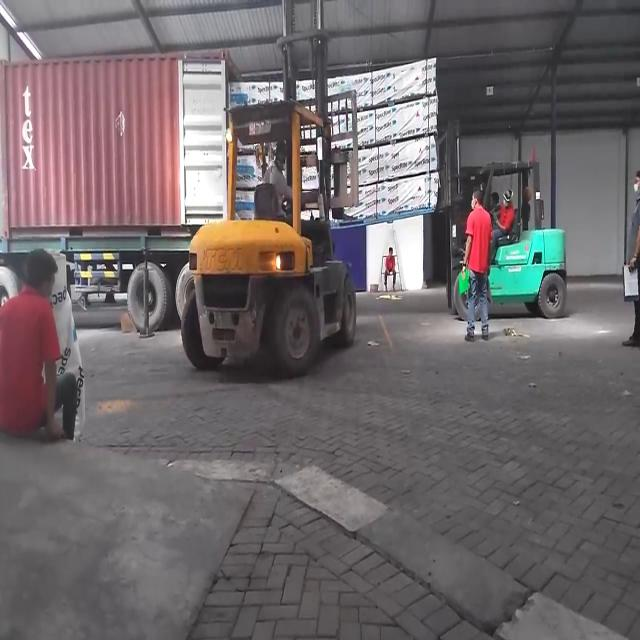Chariot elevateur: (172, 77, 362, 383), (432, 141, 573, 332)
